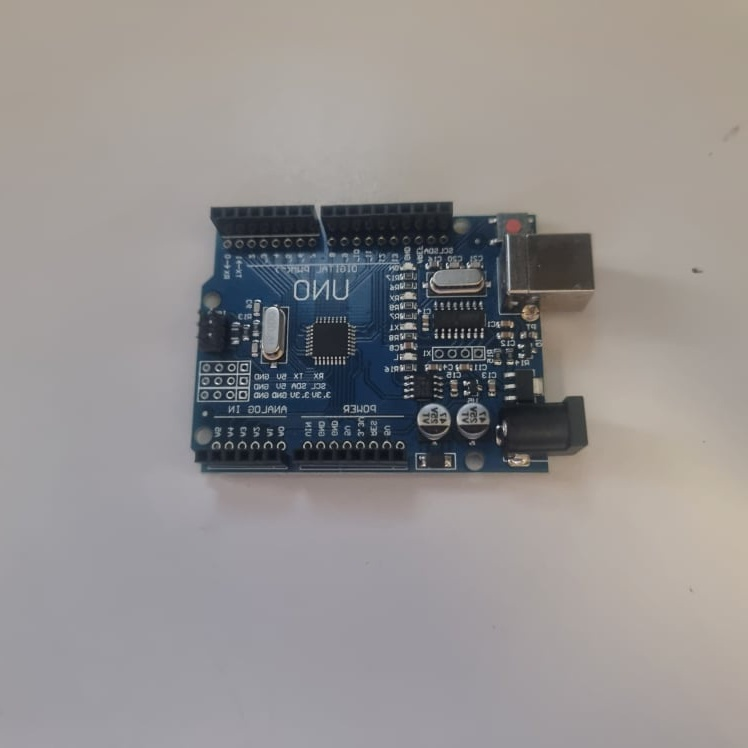UNO R3: (190, 200, 595, 477)
